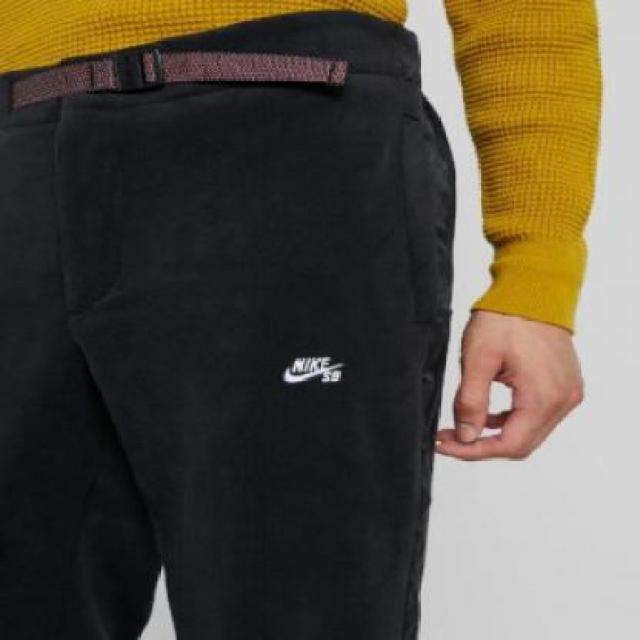Nike: (281, 355, 343, 380)
